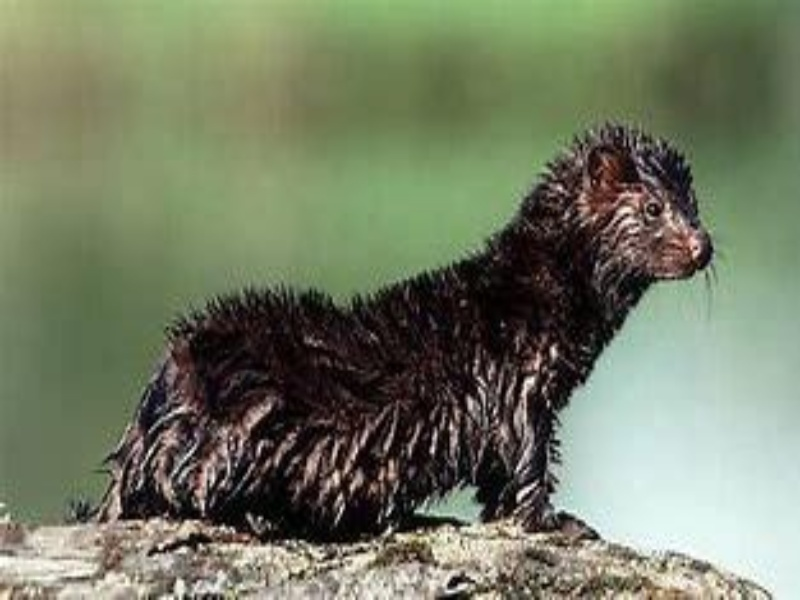minkish: (64, 115, 719, 538)
